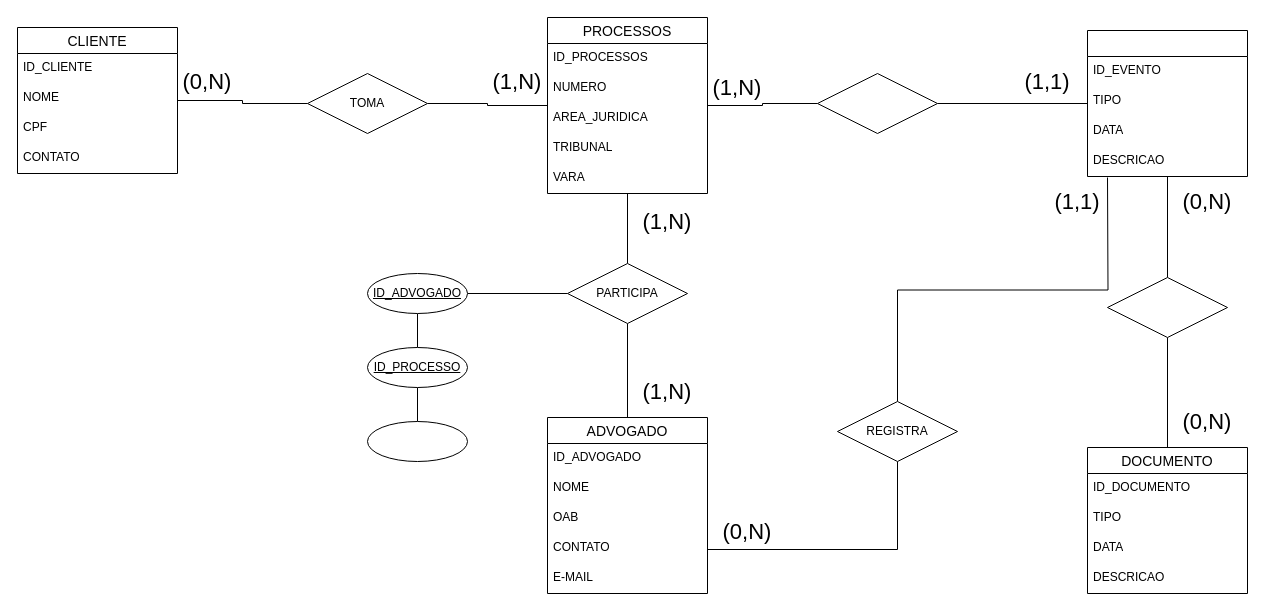
Some shapes in this 1266 by 614 pixel diagram are drawn without their labels. The shapes that lost their labels are listed below. From the top down, each one's box as (x1, y1, x2, y2) in pixels, then its label:
(816, 72, 938, 134): GERA
(1086, 30, 1248, 176): EVENTO_PROCESSUAL
(1106, 276, 1228, 338): POSSUI
(366, 420, 468, 462): FUNCAO
